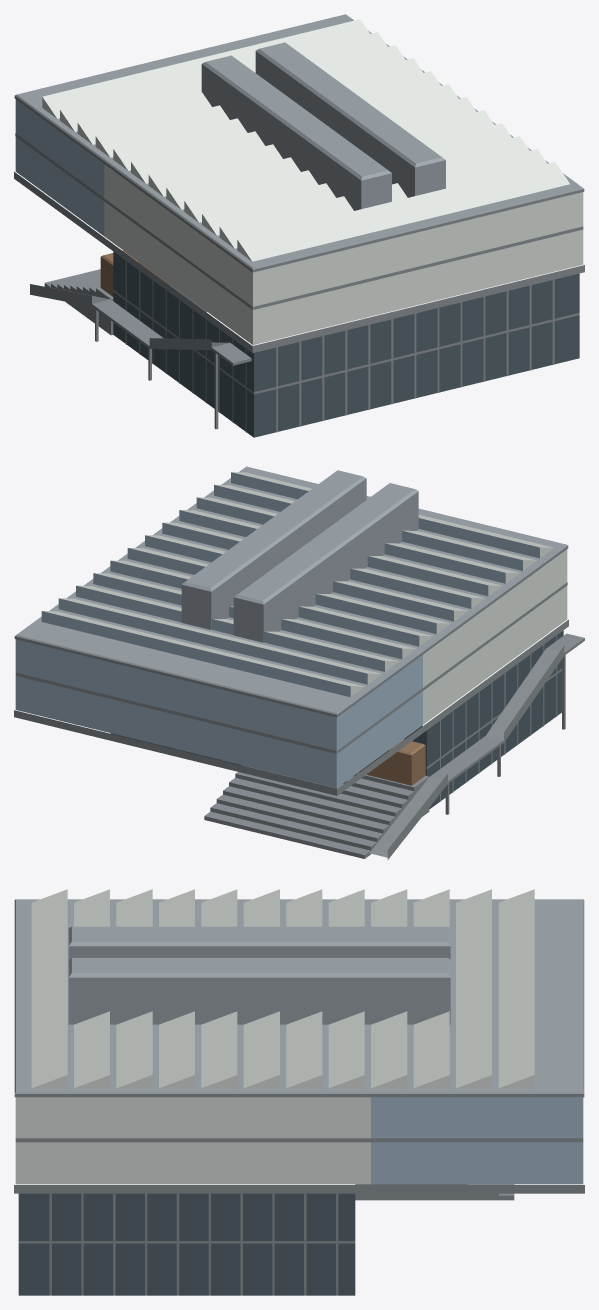
File: bos-ica.glb
3 views of the same model, one above another, from view 1: azimuth 30°, elevation 25°; view 2: azimuth 150°, elevation 25°; view 3: azimuth 270°, elevation 25° (orthographic). The views are drawn at different scales.
Visible parts, largest first — view 1: Institute of Contemporary Art; view 2: Institute of Contemporary Art; view 3: Institute of Contemporary Art.
Boxes of the visible parts, box(x1,y1,x2,y2) form: Institute of Contemporary Art: box(14, 14, 584, 437); Institute of Contemporary Art: box(14, 466, 584, 859); Institute of Contemporary Art: box(14, 889, 584, 1295).
Bounding box in the file's own units: 45.65 × 26.5 × 53.8.
